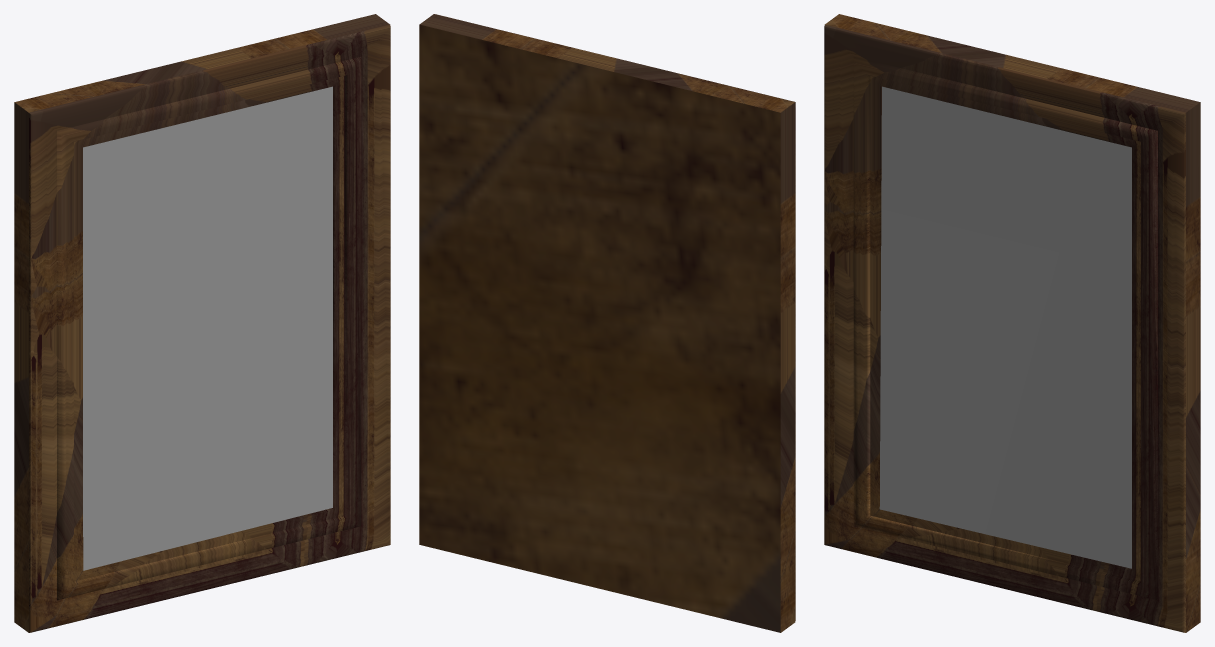
File: CadreH1.fbx
3 views of the same model, side by side, from view 1: azimuth 30°, elevation 25°; view 2: azimuth 150°, elevation 25°; view 3: azimuth 330°, elevation 25° (orthographic).
Parts seen in each view (by area): view 1: SM_frame; view 2: SM_frame; view 3: SM_frame.
Part boxes in pixels (bbox=[...]): SM_frame: bbox=[14, 14, 390, 632]; SM_frame: bbox=[419, 14, 795, 632]; SM_frame: bbox=[824, 14, 1200, 632].
Size of the model in its own units: 65 by 89.4 by 5.03.
